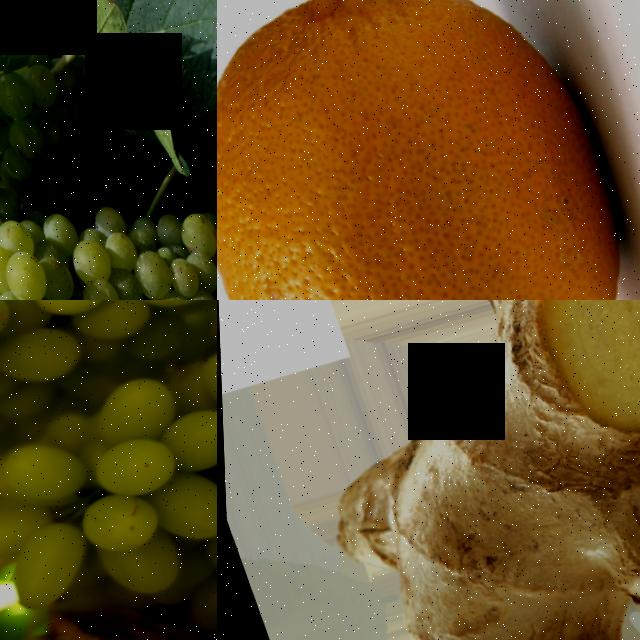ginger: (228, 300, 640, 640)
grapes: (0, 301, 217, 640), (0, 300, 217, 487), (48, 138, 217, 300), (0, 40, 90, 201)
lemon: (217, 0, 640, 300)
